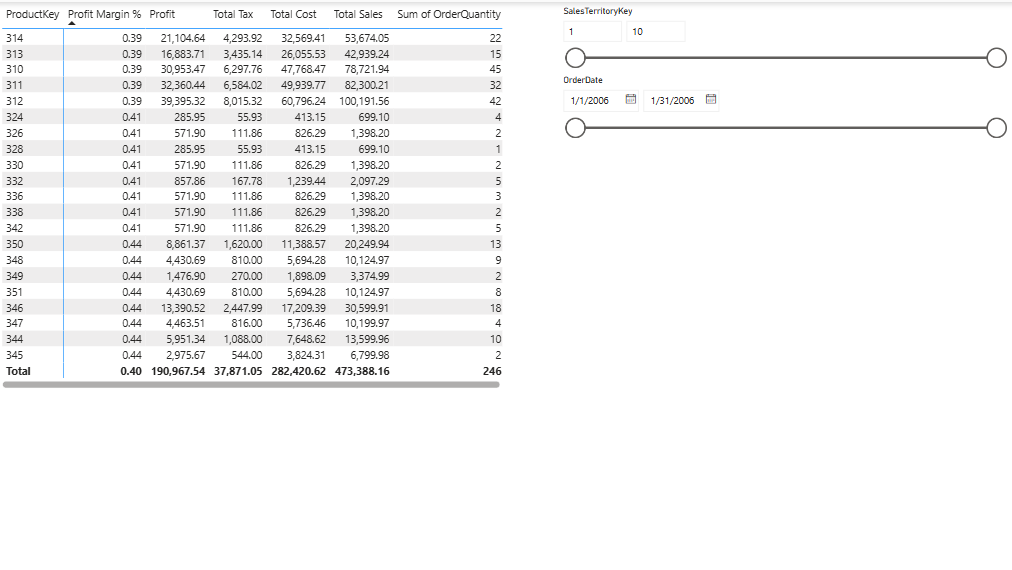

This screenshot's page, from the dashboard's own definition file:
{"tool":"powerbi","page":{"name":"Product Details","canvas":[1280,720],"ordinal":2},"visuals":[{"type":"pivotTable","fields":{"Rows":["200601.ProductKey"],"Values":["200601.Profit Margin %","200601.Profit","200601.Total Tax","200601.Total Cost","200601.Total Sales","Sum(200601.OrderQuantity)"]},"box":[0,0,640.6,491.3],"z":0},{"type":"slicer","fields":{"Values":["200601.SalesTerritoryKey"]},"box":[699.2,0,580.2,109.6],"z":1000},{"type":"slicer","fields":{"Values":["200601.OrderDate"]},"box":[699.2,86.9,580.2,103.9],"z":2000}]}

Visuals, with their boxes in screenshot pixels (x1, y1, x2, y2), scaled from the page's 1280x720 canvas onto the 1012x570 screenshot:
pivotTable - 200601.ProductKey x 200601.Profit Margin %: Rect(0, 0, 506, 389)
slicer - 200601.SalesTerritoryKey: Rect(553, 0, 1011, 87)
slicer - 200601.OrderDate: Rect(553, 69, 1011, 151)
